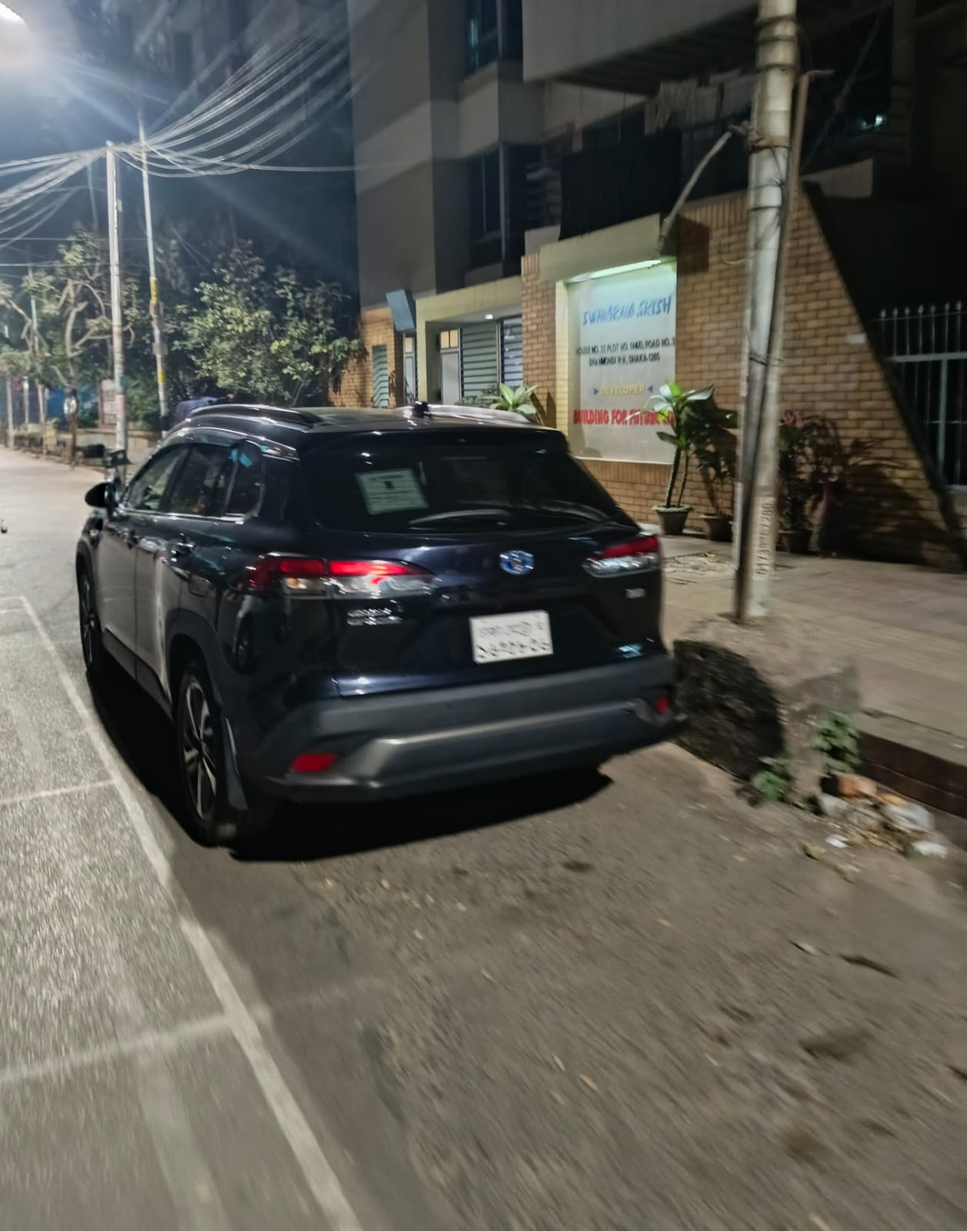private car: (51, 354, 708, 910)
